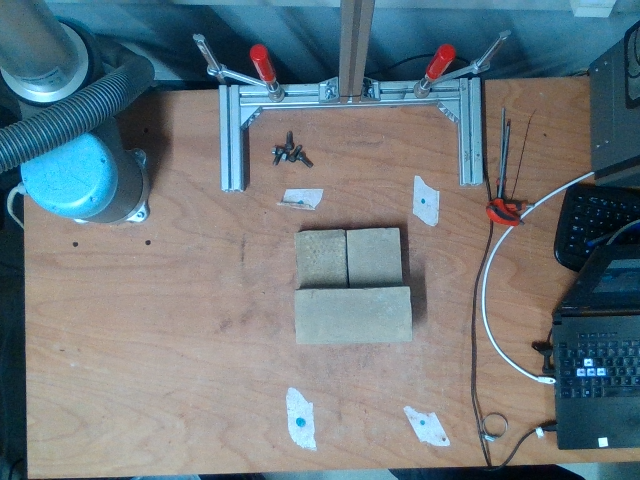brick: (292, 287, 412, 344)
